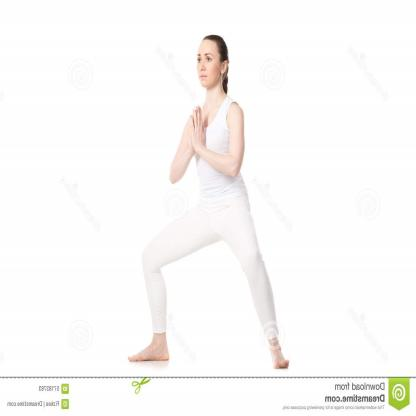godness: (122, 28, 294, 373)
